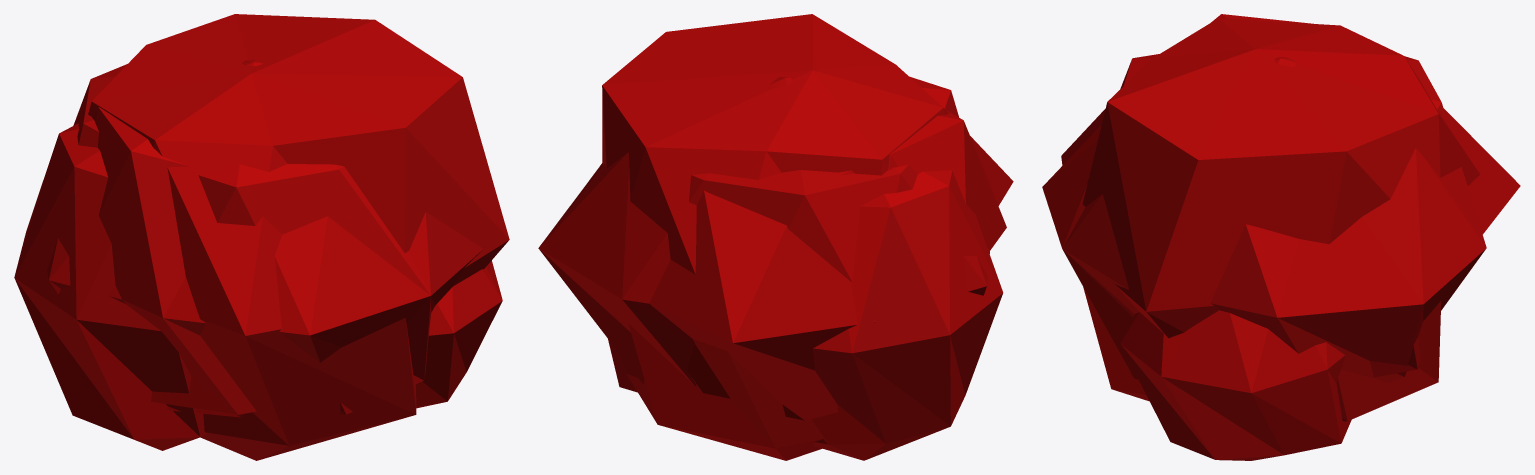
Rendered from reef.glb.
3 views of the same model, side by side, from view 1: azimuth 30°, elevation 25°; view 2: azimuth 150°, elevation 25°; view 3: azimuth 270°, elevation 25° (orthographic). The views are drawn at different scales.
Parts seen in each view (by area): view 1: v3, v2, v1, v0; view 2: v3, v1, v2, v0; view 3: v3, v0, v1, v2.
Part boxes in pixels (left/top/right/bottom): v3: left=88, top=14, right=509, bottom=460; v2: left=30, top=107, right=483, bottom=414; v1: left=14, top=123, right=502, bottom=450; v0: left=47, top=59, right=434, bottom=417; v3: left=602, top=14, right=1013, bottom=460; v1: left=608, top=170, right=1003, bottom=460; v2: left=609, top=110, right=1006, bottom=420; v0: left=538, top=76, right=989, bottom=385; v3: left=1061, top=18, right=1479, bottom=422; v0: left=1062, top=54, right=1486, bottom=382; v1: left=1120, top=310, right=1351, bottom=460; v2: left=1042, top=14, right=1520, bottom=377.
Size of the model in its own units: 1.86 by 1.66 by 1.87.
